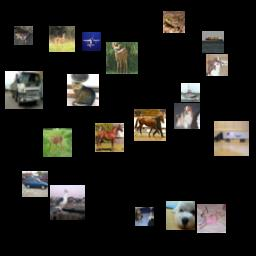airplane: (82, 32, 101, 51)
automobile: (22, 171, 48, 197)
bird: (50, 185, 85, 220)
cat: (67, 74, 99, 106), (135, 207, 154, 226)
deer: (106, 42, 138, 74), (43, 128, 72, 157), (49, 26, 75, 52)
dog: (166, 201, 195, 230), (197, 204, 226, 233), (174, 103, 200, 129)
frog: (163, 11, 185, 33), (14, 26, 33, 45)
ship: (202, 31, 224, 53), (181, 83, 200, 102)
truck: (5, 71, 43, 109), (214, 121, 249, 156)
